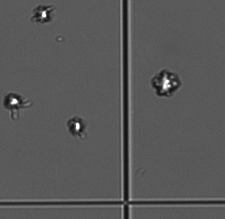Living Cell: (155, 70, 177, 96), (4, 93, 22, 110), (34, 5, 50, 23), (70, 118, 84, 136)
